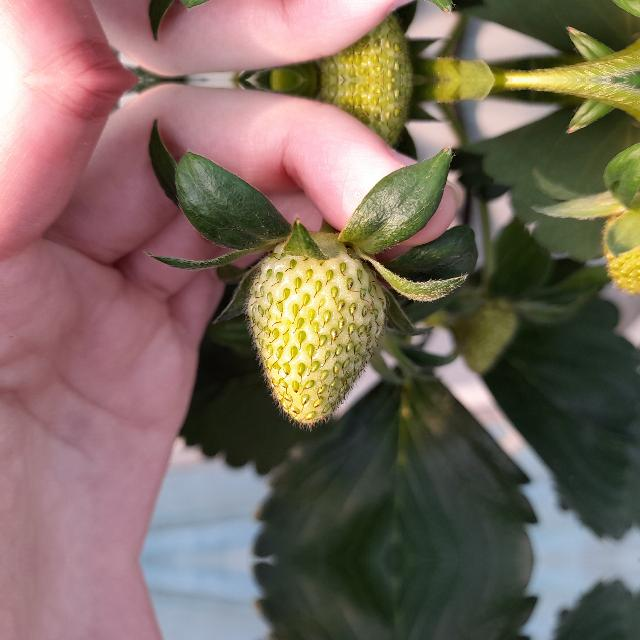Health_25: (240, 240, 388, 432)
